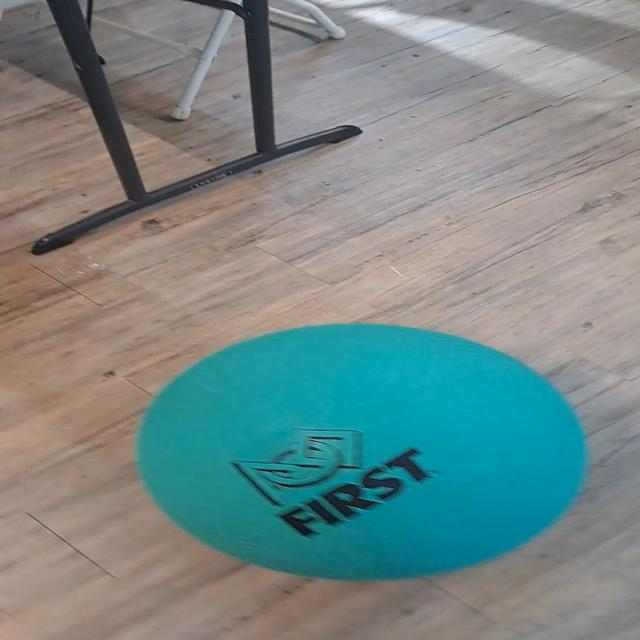ALGAE: (132, 321, 590, 583)
